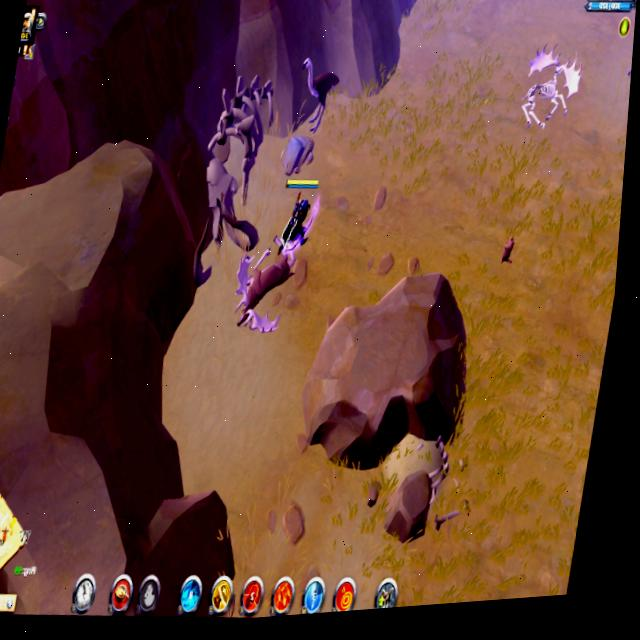mob: (218, 233, 301, 344)
ore: (284, 40, 348, 134)
red: (268, 166, 323, 264)
